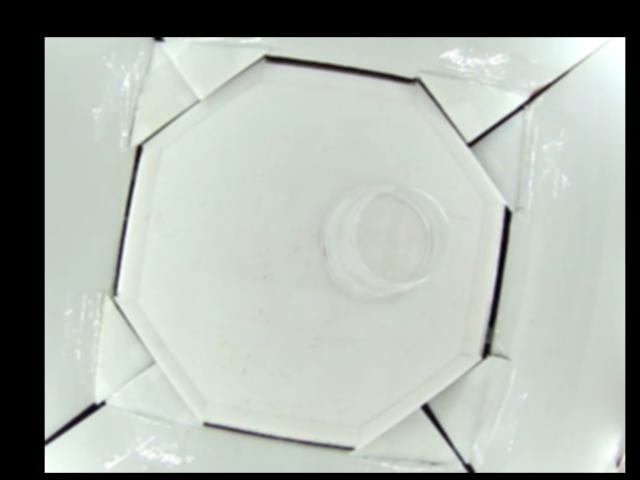Cup: (318, 184, 451, 298)
